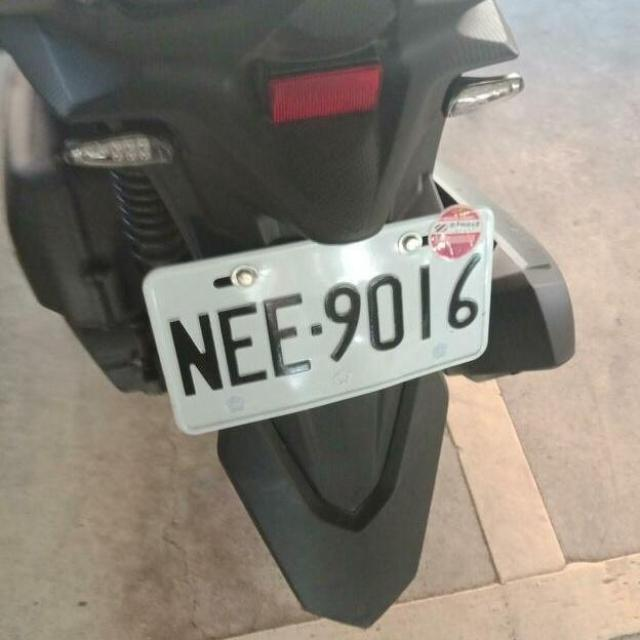W: (132, 195, 511, 440)
